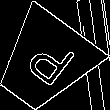P_SW: (14, 32, 75, 94)
